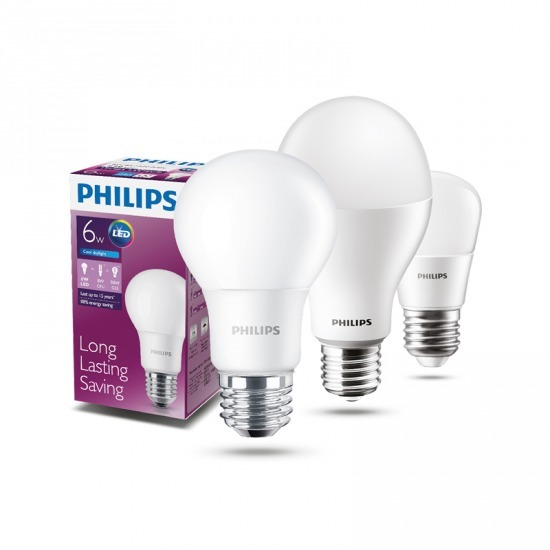Light_bulb: (151, 145, 341, 449), (281, 79, 438, 408), (392, 154, 485, 380)
